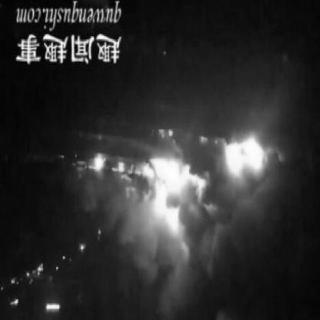Fire: (85, 123, 278, 269)
